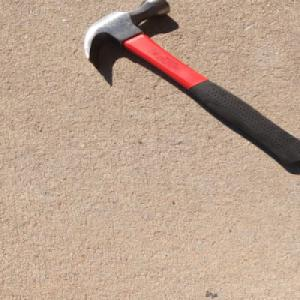Hammer: (80, 0, 300, 168)
